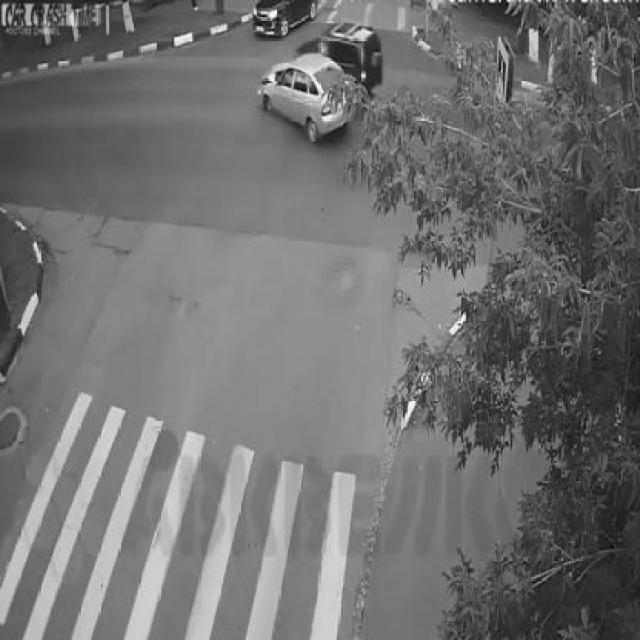accident: (261, 31, 386, 144), (245, 1, 319, 37)
